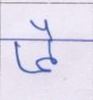ai_matra: (30, 20, 58, 38)
